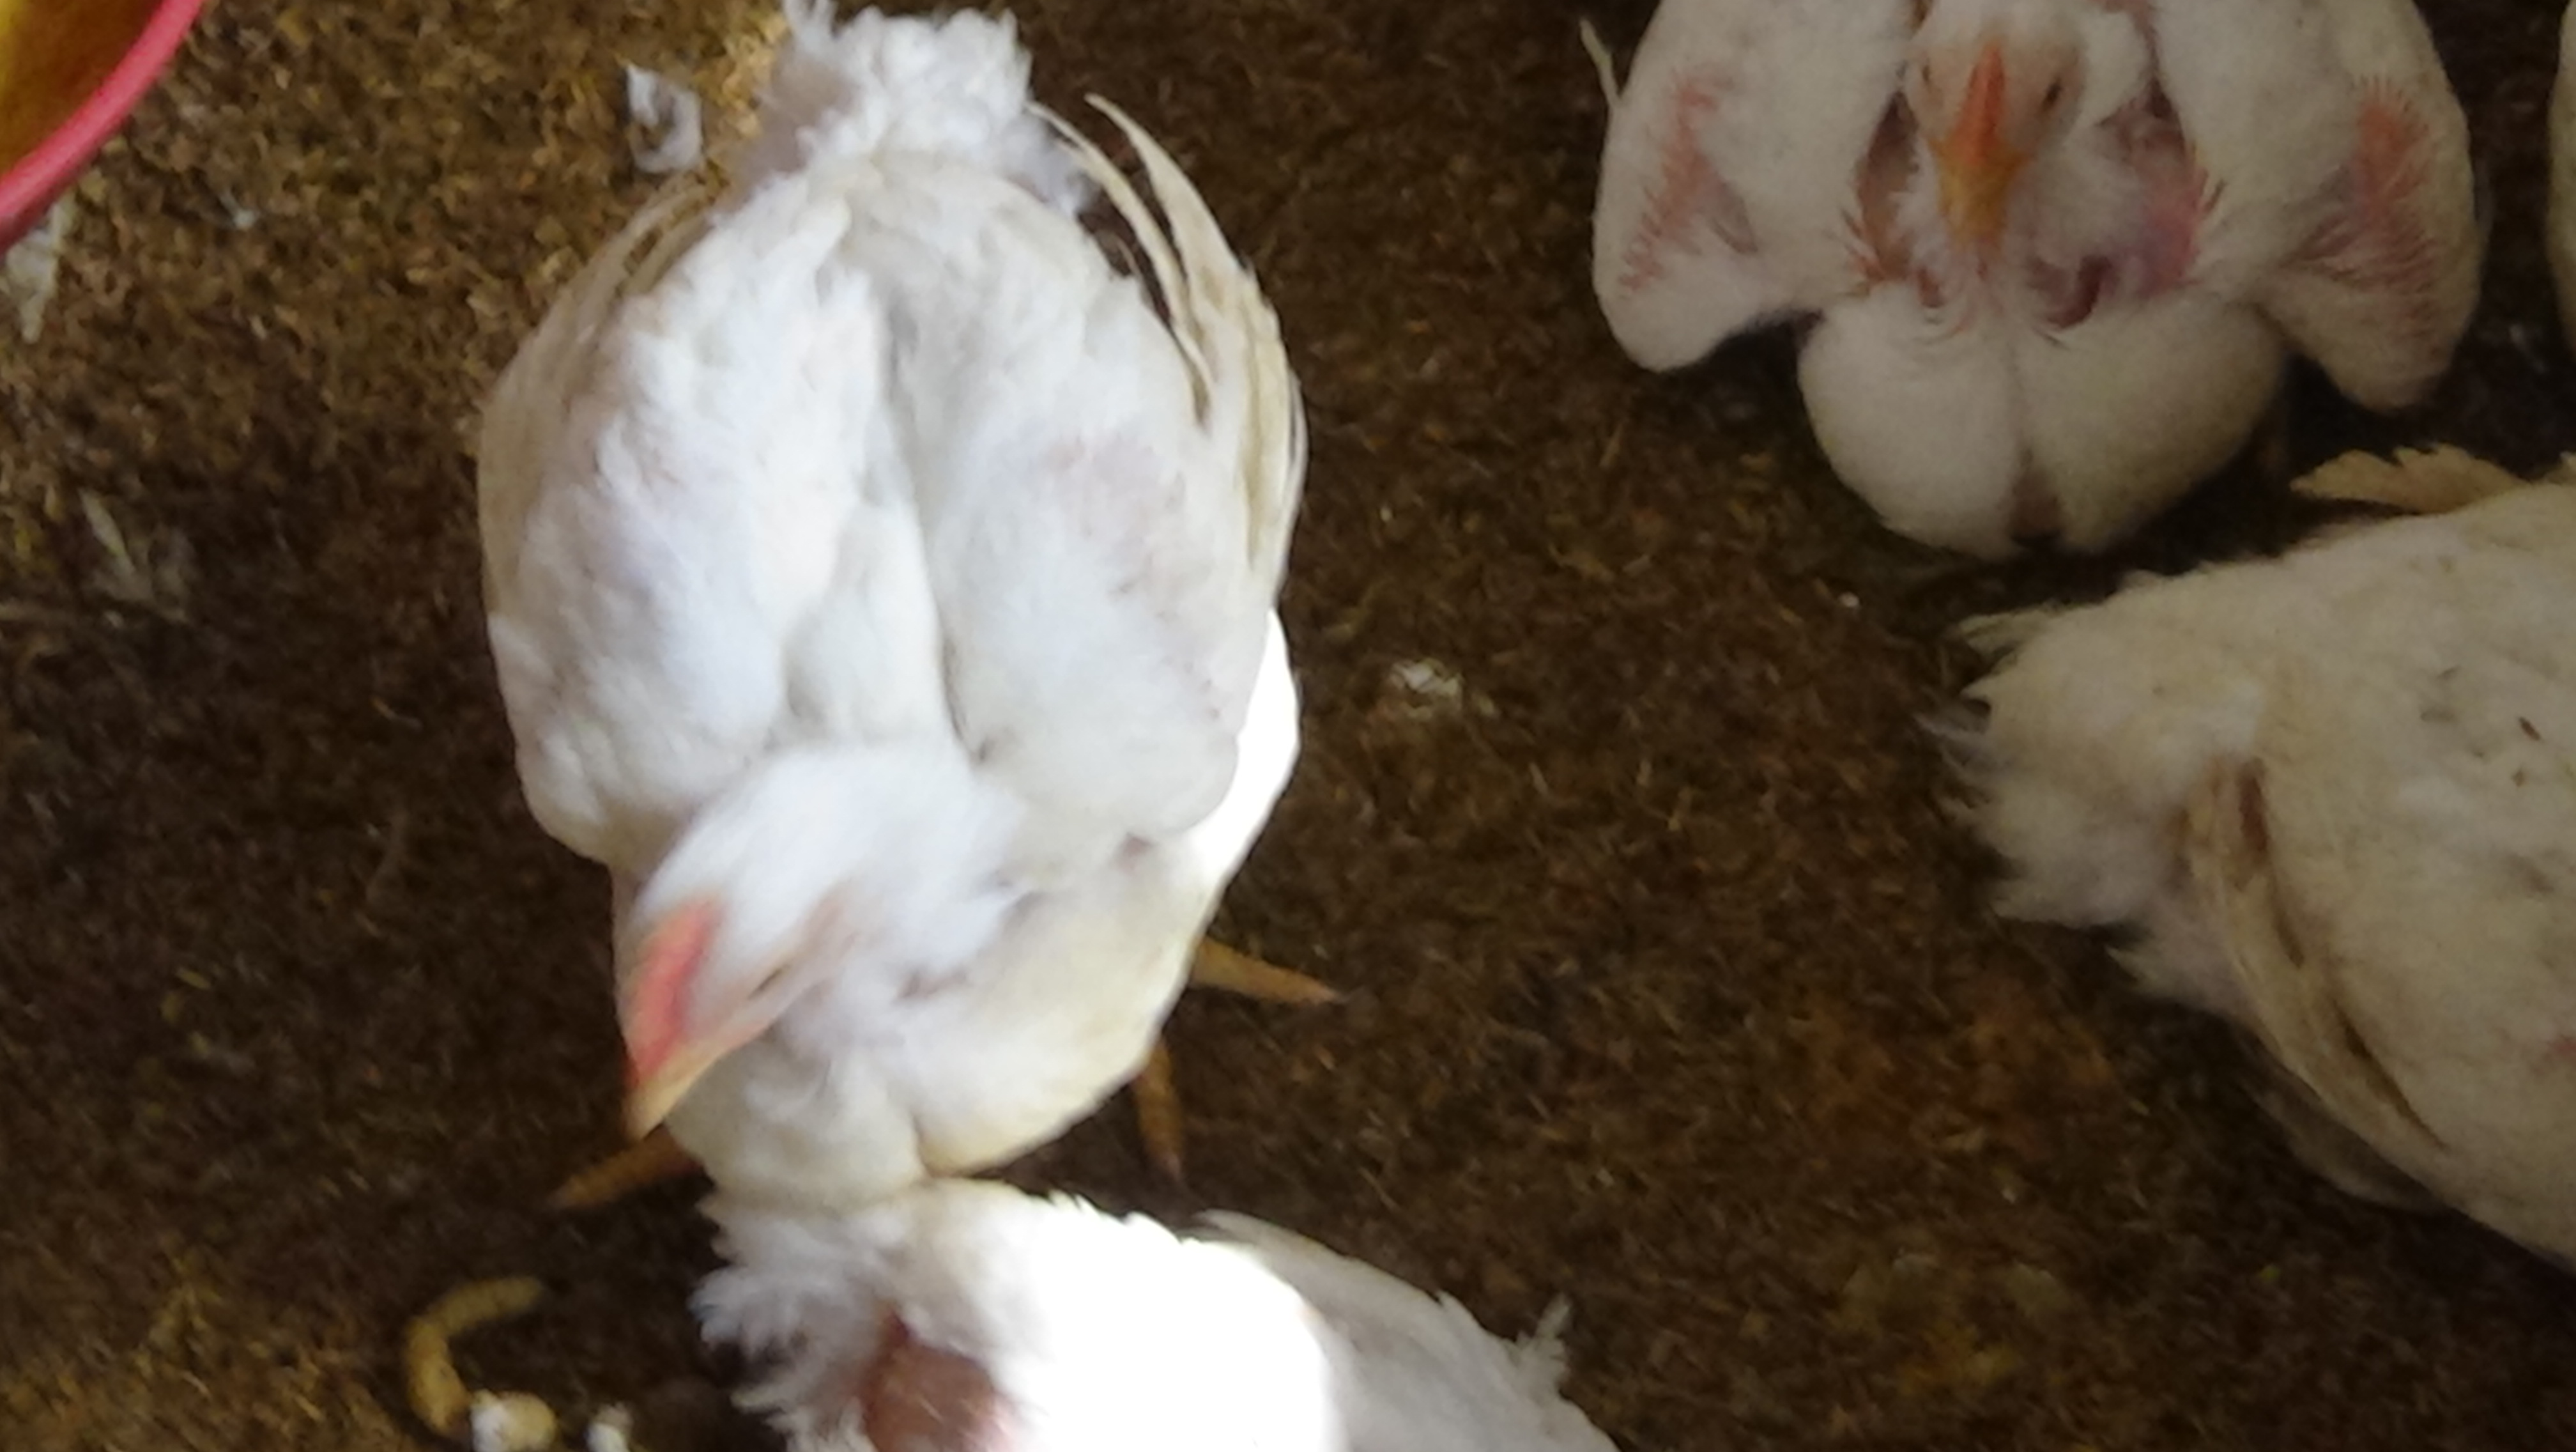Pollos: (441, 5, 1304, 1206), (1580, 0, 2576, 572), (1932, 397, 2576, 1252)
